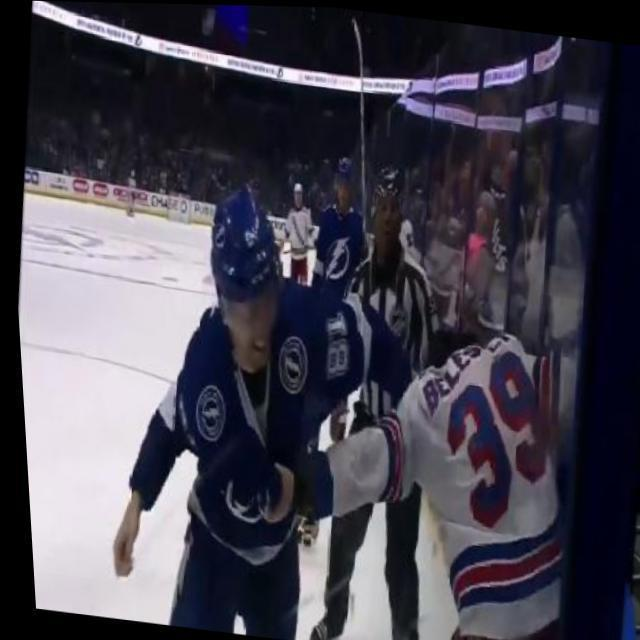fight: (77, 169, 582, 640)
